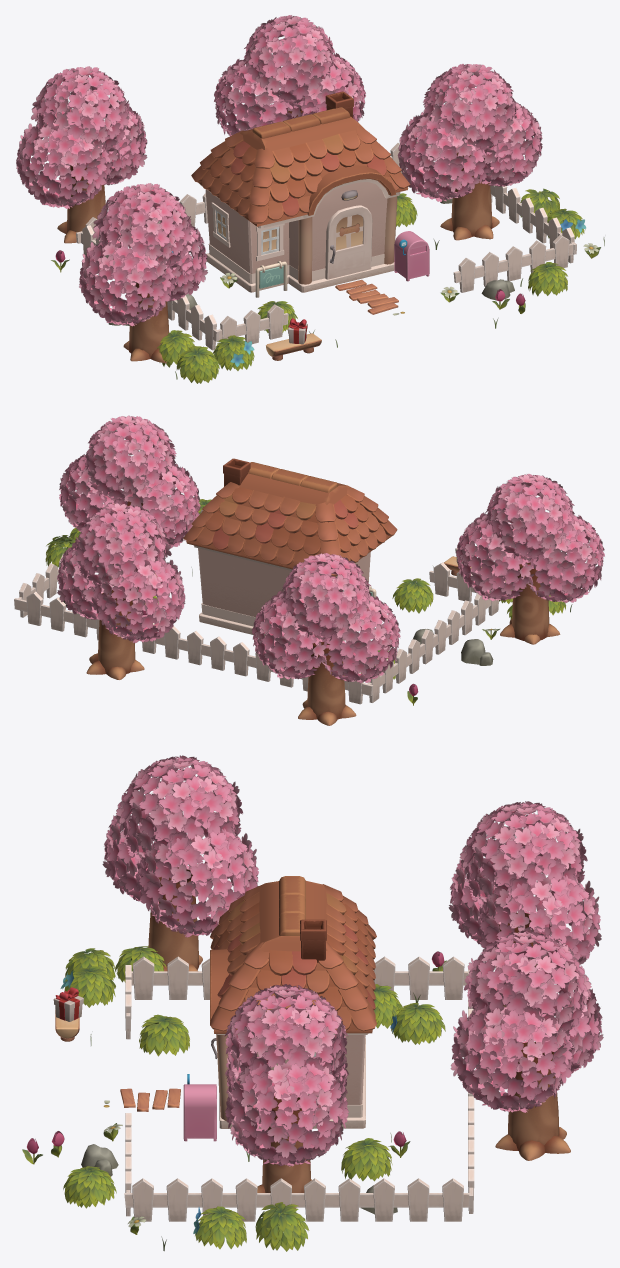
File: ac-sakura-house.glb
3 renders of one model, top to bottom at view 1: azimuth 30°, elevation 25°; view 2: azimuth 150°, elevation 25°; view 3: azimuth 270°, elevation 25°, orthographic. The views are drawn at different scales.
Visible parts, largest first — view 1: base, polySurface121_M_ATLAS_VEG_0.003, polySurface121_M_ATLAS_VEG_0.002, polySurface122_M_ATLAS_VEG_0.001, polySurface122, polySurface122_M_ATLAS_VEG_0.003, polySurface122_M_ATLAS_VEG_0.002, polySurface121, roof_base, polySurface121_M_ATLAS_VEG_0.001, roof_corner, door_M_ATLAS_1_0 (+14 smaller); view 2: polySurface121_M_ATLAS_VEG_0.001, base, polySurface122_M_ATLAS_VEG_0.002, polySurface122_M_ATLAS_VEG_0.003, polySurface122, polySurface122_M_ATLAS_VEG_0.001, polySurface121_M_ATLAS_VEG_0.002, polySurface121_M_ATLAS_VEG_0.003, polySurface117_M_ATLAS_VEG_0.003, polySurface117_M_ATLAS_VEG_0.002, polySurface121, roof_corner (+18 smaller); view 3: polySurface117, polySurface117_M_ATLAS_VEG_0.001, polySurface117_M_ATLAS_VEG_0.003, polySurface122_M_ATLAS_VEG_0.003, polySurface122_M_ATLAS_VEG_0.001, polySurface122_M_ATLAS_VEG_0.002, polySurface122, polySurface117_M_ATLAS_VEG_0.002, roof_corner, roof_base, r_tile_c19, polySurface121_M_ATLAS_VEG_0.003 (+23 smaller).
Boxes of the visible parts, left/top/right/bottom form: base: left=200, top=179, right=400, bottom=292; polySurface121_M_ATLAS_VEG_0.003: left=79, top=240, right=175, bottom=326; polySurface121_M_ATLAS_VEG_0.002: left=16, top=122, right=112, bottom=208; polySurface122_M_ATLAS_VEG_0.001: left=244, top=15, right=334, bottom=106; polySurface122: left=423, top=64, right=516, bottom=153; polySurface122_M_ATLAS_VEG_0.003: left=92, top=183, right=191, bottom=271; polySurface122_M_ATLAS_VEG_0.002: left=31, top=66, right=129, bottom=155; polySurface121: left=397, top=112, right=489, bottom=201; roof_base: left=198, top=116, right=408, bottom=226; polySurface121_M_ATLAS_VEG_0.001: left=214, top=57, right=292, bottom=136; roof_corner: left=191, top=125, right=410, bottom=223; door_M_ATLAS_1_0: left=325, top=205, right=372, bottom=279; polySurface121_M_ATLAS_VEG_0.001: left=91, top=557, right=185, bottom=643; base: left=194, top=545, right=370, bottom=640; polySurface122_M_ATLAS_VEG_0.002: left=282, top=553, right=371, bottom=640; polySurface122_M_ATLAS_VEG_0.003: left=485, top=473, right=574, bottom=560; polySurface122: left=85, top=415, right=176, bottom=501; polySurface122_M_ATLAS_VEG_0.001: left=75, top=503, right=171, bottom=585; polySurface121_M_ATLAS_VEG_0.002: left=321, top=596, right=400, bottom=683; polySurface121_M_ATLAS_VEG_0.003: left=525, top=515, right=604, bottom=603; polySurface117_M_ATLAS_VEG_0.003: left=455, top=512, right=534, bottom=601; polySurface117_M_ATLAS_VEG_0.002: left=252, top=590, right=328, bottom=679; polySurface121: left=113, top=463, right=200, bottom=548; roof_corner: left=183, top=482, right=397, bottom=576; polySurface117: left=225, top=1063, right=348, bottom=1166; polySurface117_M_ATLAS_VEG_0.001: left=450, top=1004, right=574, bottom=1112; polySurface117_M_ATLAS_VEG_0.003: left=135, top=828, right=258, bottom=937; polySurface122_M_ATLAS_VEG_0.003: left=116, top=755, right=242, bottom=862; polySurface122_M_ATLAS_VEG_0.001: left=463, top=930, right=591, bottom=1036; polySurface122_M_ATLAS_VEG_0.002: left=459, top=801, right=587, bottom=907; polySurface122: left=224, top=984, right=347, bottom=1082; polySurface117_M_ATLAS_VEG_0.002: left=477, top=875, right=601, bottom=976; roof_corner: left=210, top=884, right=376, bottom=1031; roof_base: left=210, top=881, right=372, bottom=1033; r_tile_c19: left=244, top=950, right=351, bottom=1030; polySurface121_M_ATLAS_VEG_0.003: left=102, top=789, right=219, bottom=901.
Bounding box in the file's own units: 0.1683 × 0.0528 × 0.1301.
Materials: 4 (4 with a texture image).
